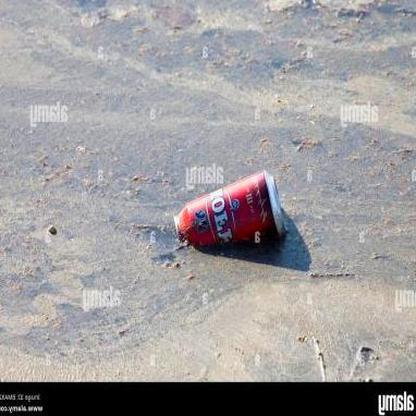can: (171, 169, 290, 252)
